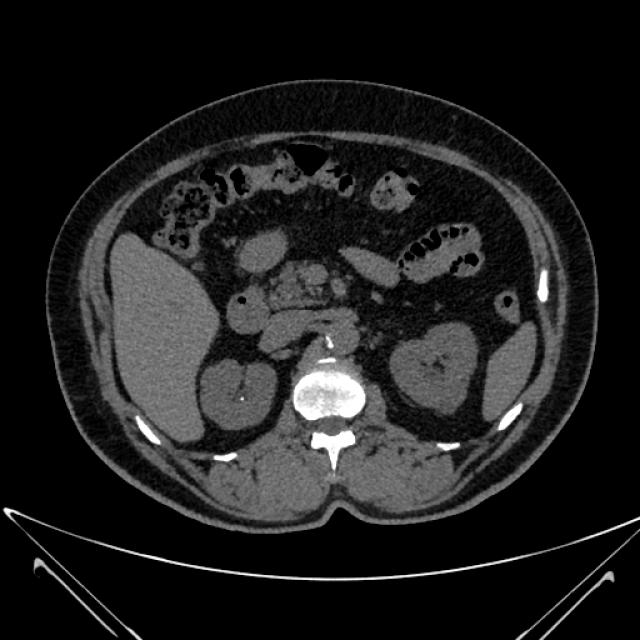kidney: (394, 322, 477, 414), (204, 359, 275, 431)
stone: (241, 396, 244, 401)
